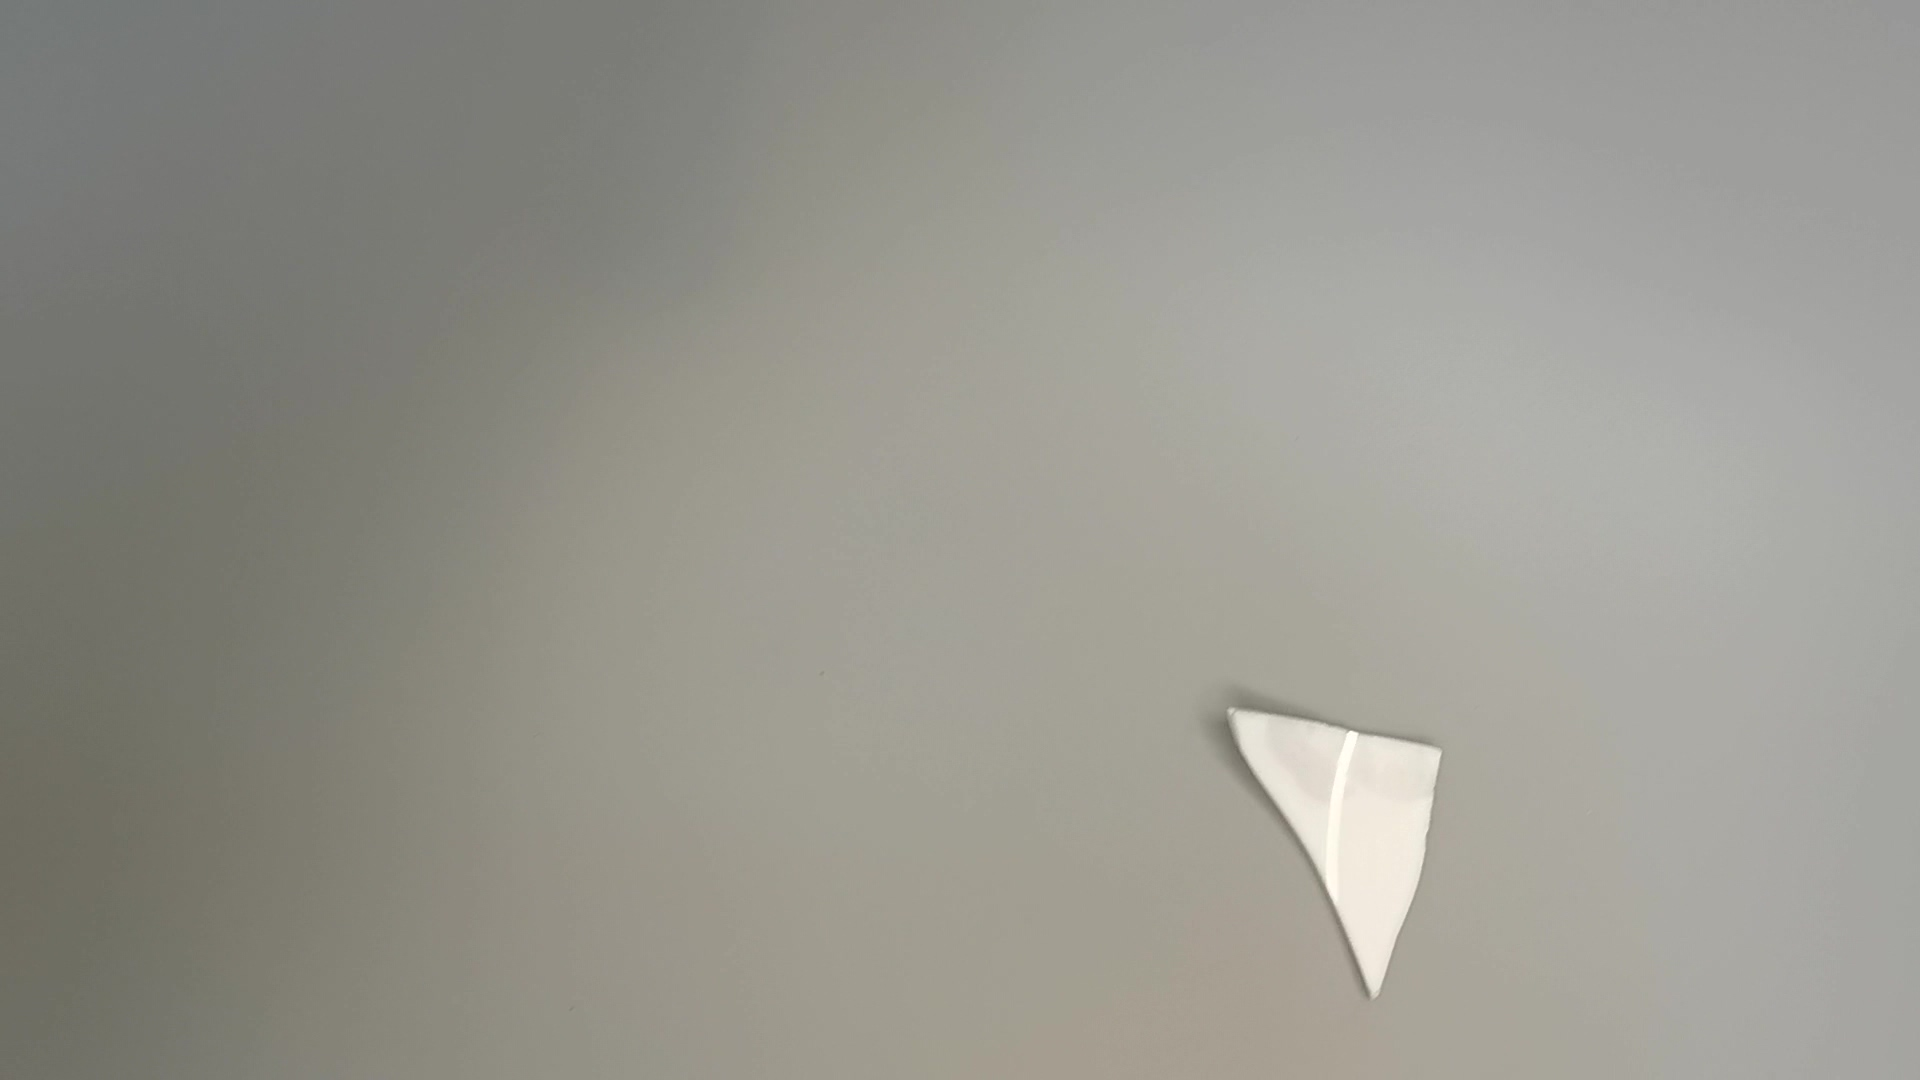ceramic: (1211, 690, 1455, 1005)
